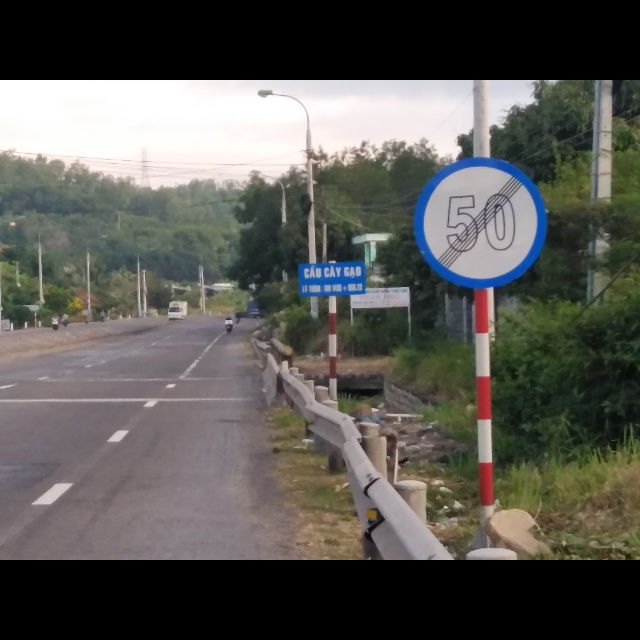Hết hạn chế tốc độ tối đa 50km/h: (411, 157, 549, 292)
